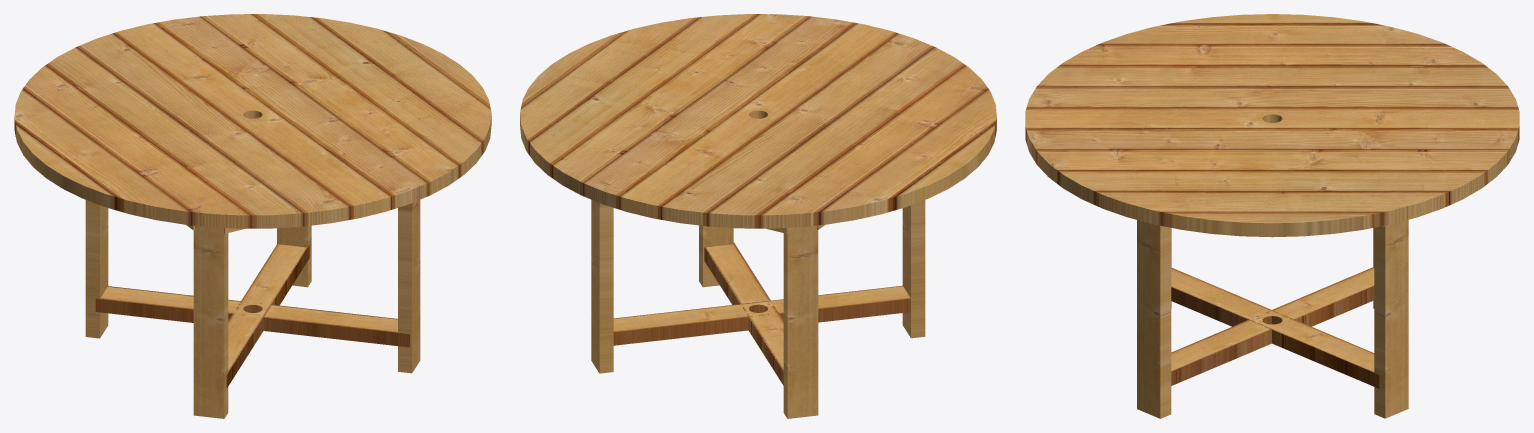
File: PatioTable.fbx
3 views of the same model, side by side, from view 1: azimuth 30°, elevation 25°; view 2: azimuth 150°, elevation 25°; view 3: azimuth 270°, elevation 25° (orthographic). The views are drawn at different scales.
Visible parts, largest first — view 1: polySurface3, polySurface2, polySurface10, polySurface1, polySurface11, polySurface9, polySurface8; view 2: polySurface3, polySurface9, polySurface1, polySurface2, polySurface8, polySurface10, polySurface11; view 3: polySurface3, polySurface11, polySurface8, polySurface1, polySurface2.
Boxes of the visible parts, x1=… form: polySurface3: x1=14, y1=14, x2=491, y2=228; polySurface2: x1=95, y1=286, x2=410, y2=347; polySurface10: x1=193, y1=225, x2=228, y2=418; polySurface1: x1=226, y1=244, x2=309, y2=387; polySurface11: x1=398, y1=200, x2=420, y2=373; polySurface9: x1=85, y1=200, x2=108, y2=338; polySurface8: x1=277, y1=225, x2=311, y2=287; polySurface3: x1=520, y1=14, x2=996, y2=228; polySurface9: x1=783, y1=225, x2=818, y2=418; polySurface1: x1=613, y1=285, x2=910, y2=345; polySurface2: x1=704, y1=242, x2=783, y2=385; polySurface8: x1=591, y1=199, x2=613, y2=373; polySurface10: x1=902, y1=200, x2=925, y2=338; polySurface11: x1=699, y1=225, x2=733, y2=287; polySurface3: x1=1025, y1=14, x2=1519, y2=237; polySurface11: x1=1137, y1=220, x2=1171, y2=418; polySurface8: x1=1374, y1=220, x2=1408, y2=418; polySurface1: x1=1171, y1=267, x2=1379, y2=388; polySurface2: x1=1171, y1=267, x2=1374, y2=385.
Size of the model in its own units: 11.53 by 6.24 by 11.51.
1 material, 1 textured.
